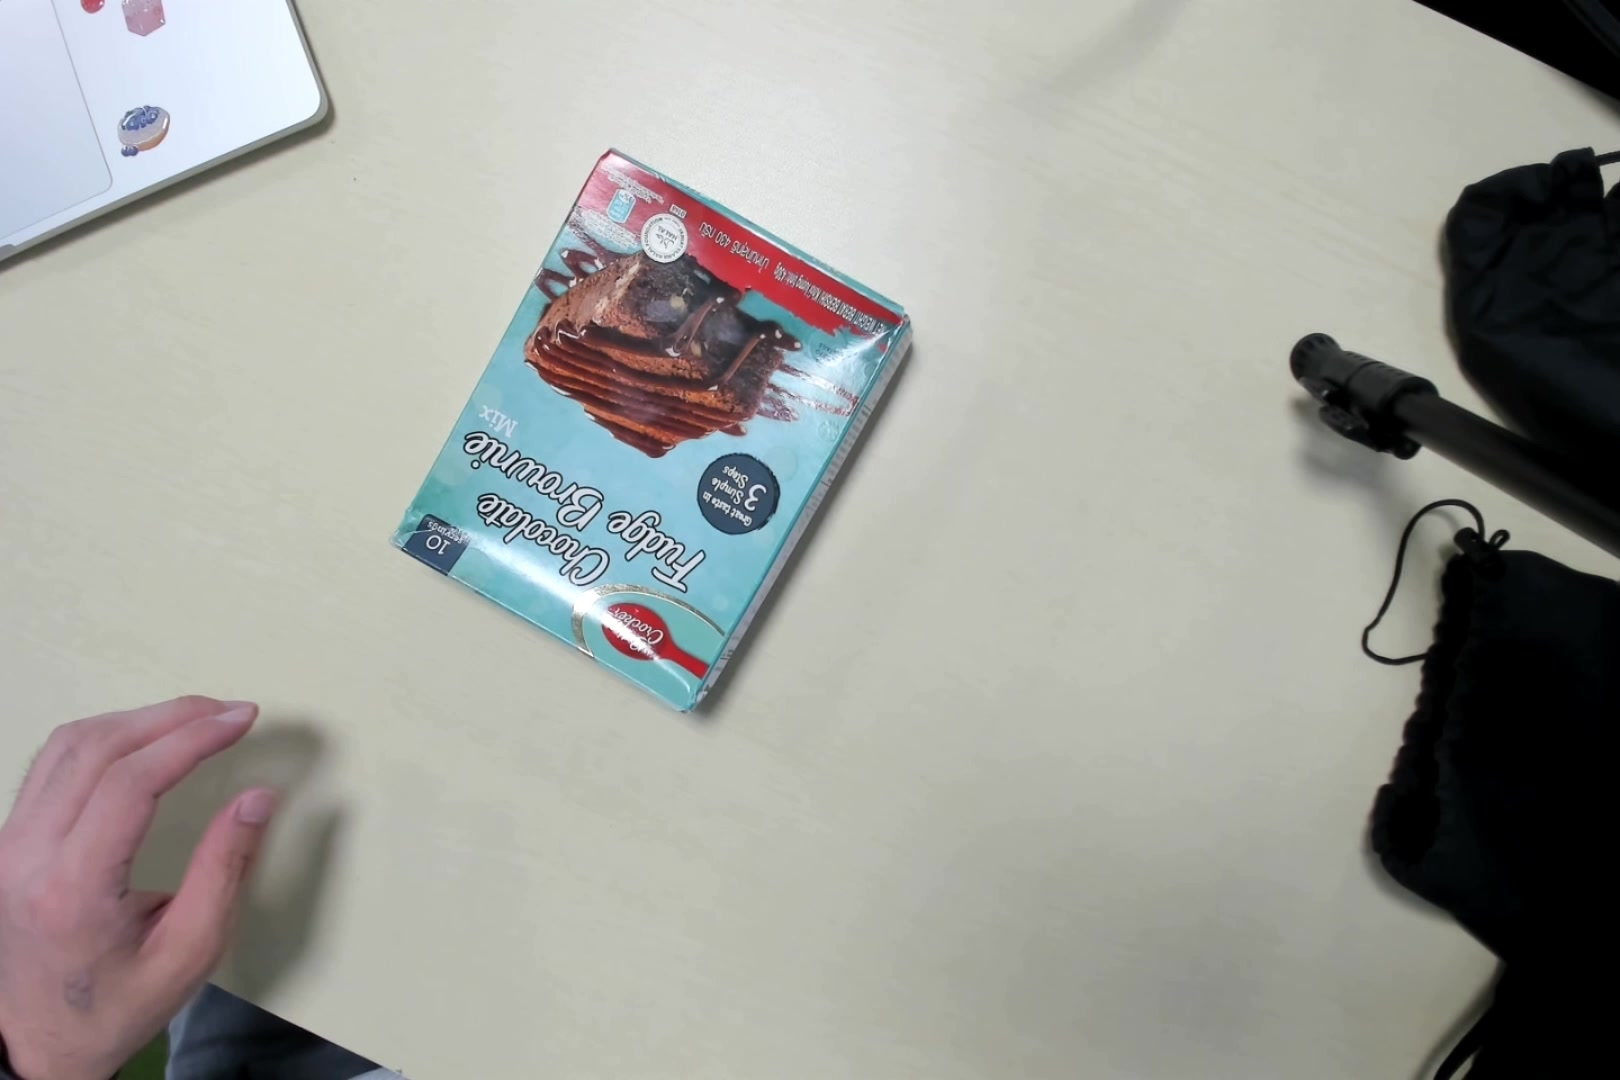OtherBakingNeeds_400-499g_Halal_NonHealthy: (391, 140, 912, 718)
